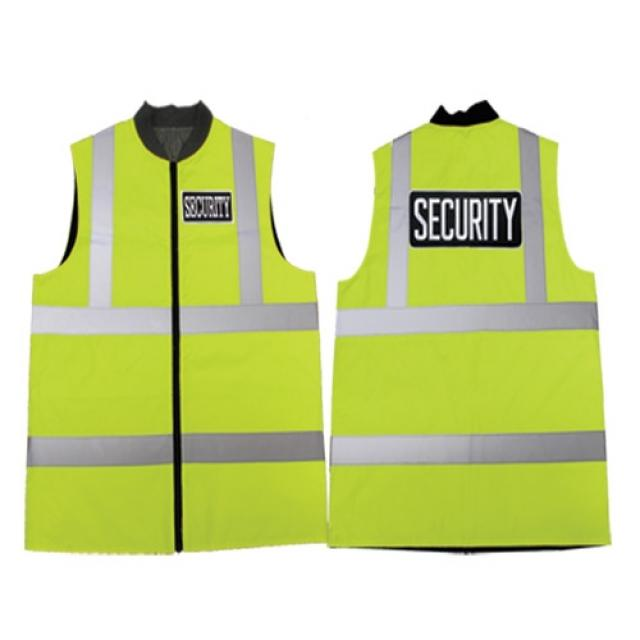Reflective-Jacket: (1, 59, 327, 602), (327, 56, 620, 556)
